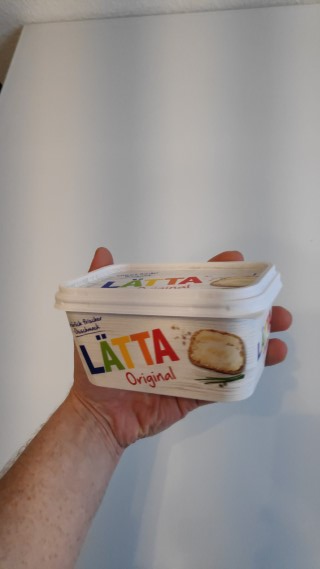laetta: (53, 260, 283, 403)
